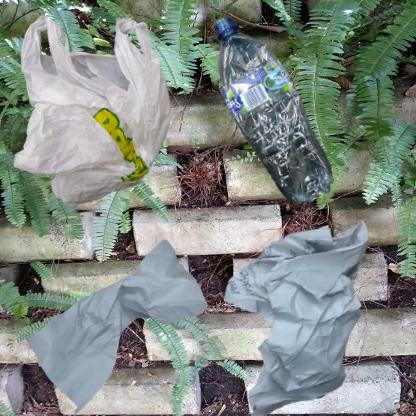bolsa: (10, 10, 180, 216)
botella: (213, 10, 338, 216)
papel: (10, 213, 230, 416), (213, 213, 402, 416)
